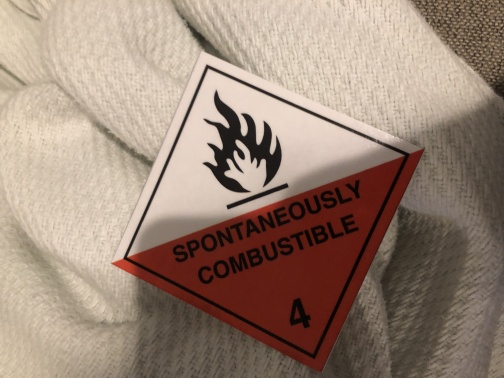SpontaneouslyCombustible: (111, 52, 424, 372)
